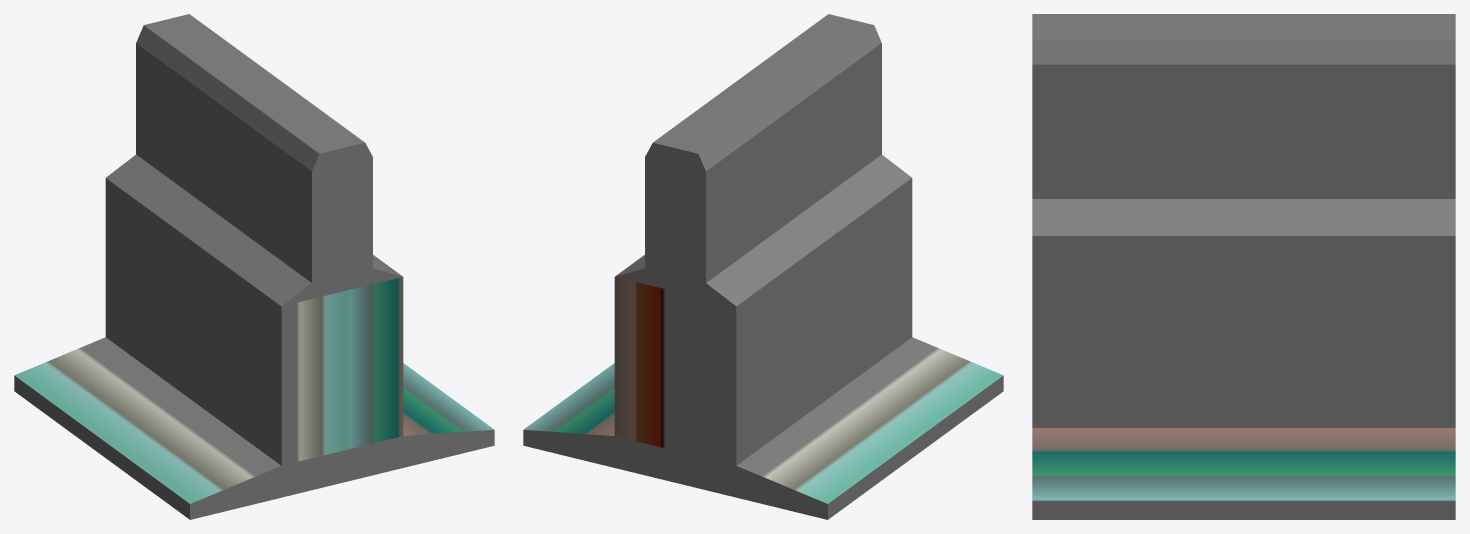
The model's file is Wall.fbx.
3 views of the same model, side by side, from view 1: azimuth 30°, elevation 25°; view 2: azimuth 150°, elevation 25°; view 3: azimuth 270°, elevation 25° (orthographic). The views are drawn at different scales.
Parts seen in each view (by area): view 1: Concrete; view 2: Concrete; view 3: Concrete.
Boxes of the visible parts, left/top/right/bottom form: Concrete: left=14, top=14, right=494, bottom=519; Concrete: left=523, top=14, right=1003, bottom=519; Concrete: left=1032, top=14, right=1455, bottom=519.
Bounding box in the file's own units: 200 × 210 × 200.
